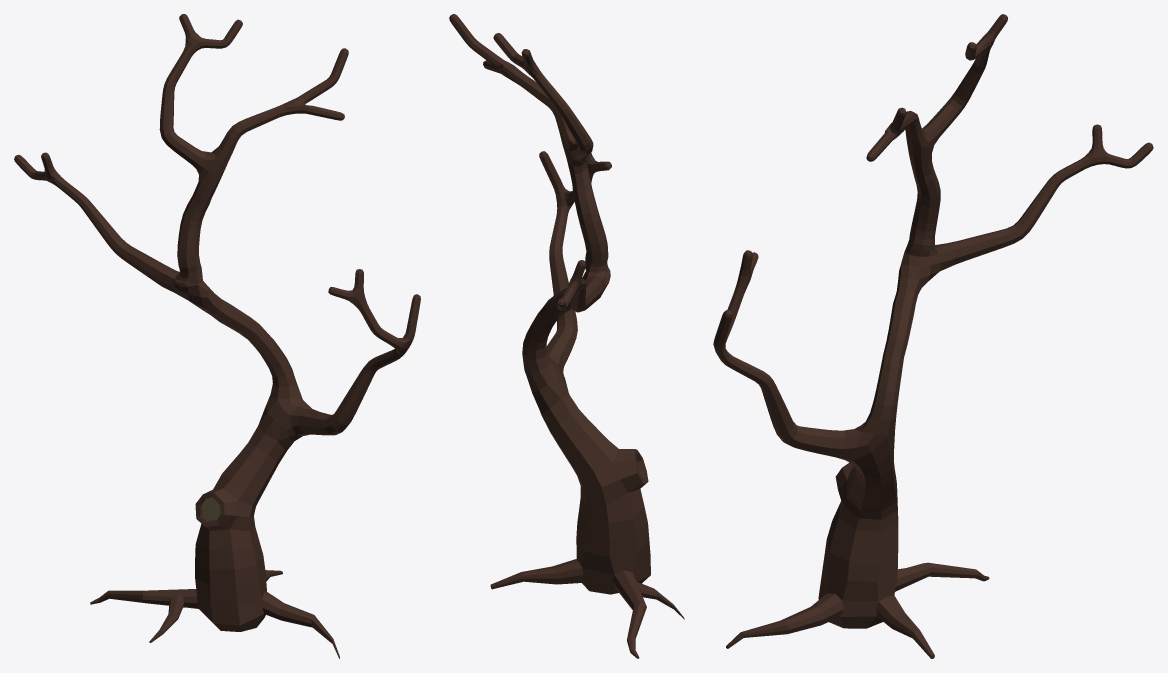
The model's file is Tree_01.fbx.
The picture shows the model from 3 angles, left to right: view 1: azimuth 30°, elevation 25°; view 2: azimuth 150°, elevation 25°; view 3: azimuth 270°, elevation 25°; orthographic projection. The views are drawn at different scales.
Parts seen in each view (by area): view 1: tree_01; view 2: tree_01; view 3: tree_01.
Part boxes in pixels (<box>): tree_01: <box>14,14,420,658</box>; tree_01: <box>449,14,684,658</box>; tree_01: <box>713,14,1153,658</box>.
Bounding box in the file's own units: 144 × 350 × 225.
